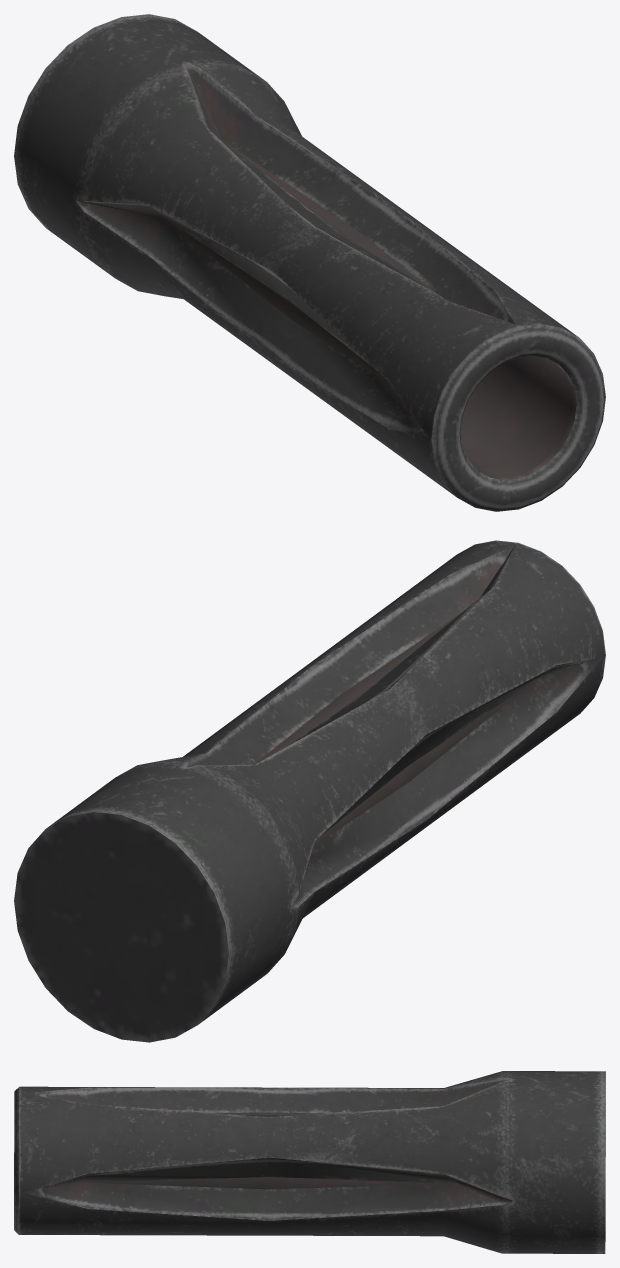
The model's file is SR_Flashhider.FBX.
The picture shows the model from 3 angles, top to bottom: view 1: azimuth 30°, elevation 25°; view 2: azimuth 150°, elevation 25°; view 3: azimuth 270°, elevation 25°; orthographic projection. The views are drawn at different scales.
Parts seen in each view (by area): view 1: SR_FlashHider_01; view 2: SR_FlashHider_01; view 3: SR_FlashHider_01.
Part boxes in pixels (x1,y1,x2,y2): SR_FlashHider_01: (14,14,605,511); SR_FlashHider_01: (14,540,605,1042); SR_FlashHider_01: (14,1071,605,1253).
Size of the model in its own units: 2.42 by 2.43 by 7.82.
